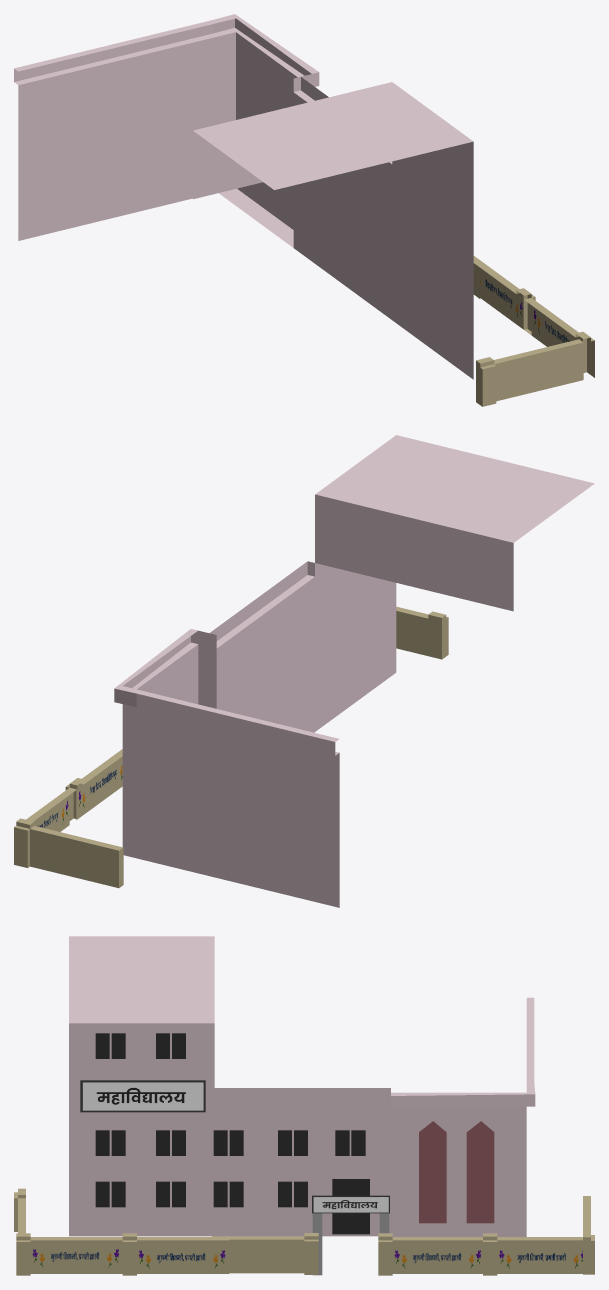
File: Indian School.fbx
The picture shows the model from 3 angles, top to bottom: view 1: azimuth 30°, elevation 25°; view 2: azimuth 150°, elevation 25°; view 3: azimuth 270°, elevation 25°; orthographic projection. The views are drawn at different scales.
Visible parts, largest first — view 1: pCube31, pCube37, pCube34, pCube35; view 2: pCube31, pCube38, pCube37, pCube32, pCube33; view 3: pCube31, pPlane19, pCube34, pCube35, pCube32, pCube33, pCube36, pPlane17, pPlane16, polySurface6, pPlane20, pPlane13 (+12 smaller).
Part boxes in pixels (x1=…): pCube31: x1=14, y1=14, x2=473, y2=379; pCube37: x1=476, y1=339, x2=583, y2=406; pCube34: x1=473, y1=256, x2=535, y2=335; pCube35: x1=524, y1=298, x2=594, y2=377; pCube31: x1=114, y1=435, x2=594, y2=907; pCube38: x1=14, y1=818, x2=123, y2=888; pCube37: x1=396, y1=606, x2=448, y2=659; pCube32: x1=76, y1=749, x2=122, y2=819; pCube33: x1=26, y1=778, x2=84, y2=831; pCube31: x1=69, y1=936, x2=535, y2=1236; pPlane19: x1=80, y1=1080, x2=205, y2=1112; pCube34: x1=122, y1=1233, x2=229, y2=1275; pCube35: x1=16, y1=1233, x2=122, y2=1275; pCube32: x1=378, y1=1233, x2=482, y2=1275; pCube33: x1=483, y1=1233, x2=582, y2=1275; pCube36: x1=212, y1=1233, x2=318, y2=1274; pPlane17: x1=466, y1=1121, x2=494, y2=1223; pPlane16: x1=419, y1=1121, x2=446, y2=1223; polySurface6: x1=332, y1=1179, x2=369, y2=1234; pPlane20: x1=312, y1=1195, x2=389, y2=1213; pPlane13: x1=213, y1=1181, x2=243, y2=1207.
Size of the model in its own units: 1203 by 967 by 2324.
